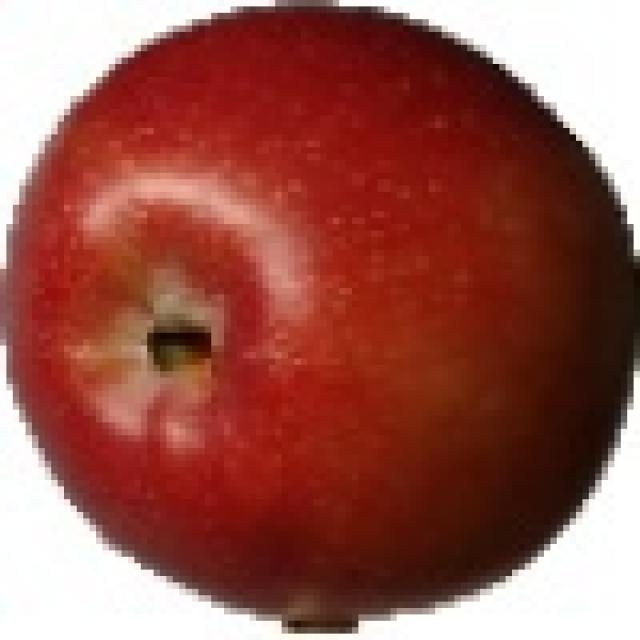apple: (7, 7, 632, 630)
